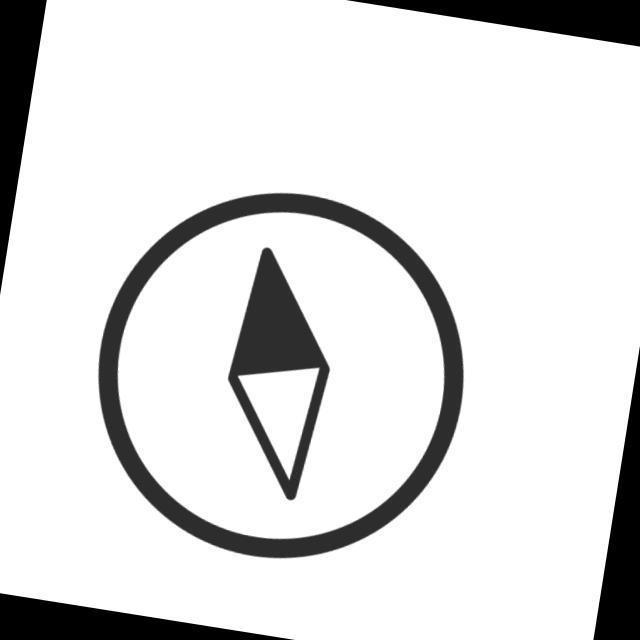compass: (66, 162, 497, 593)
